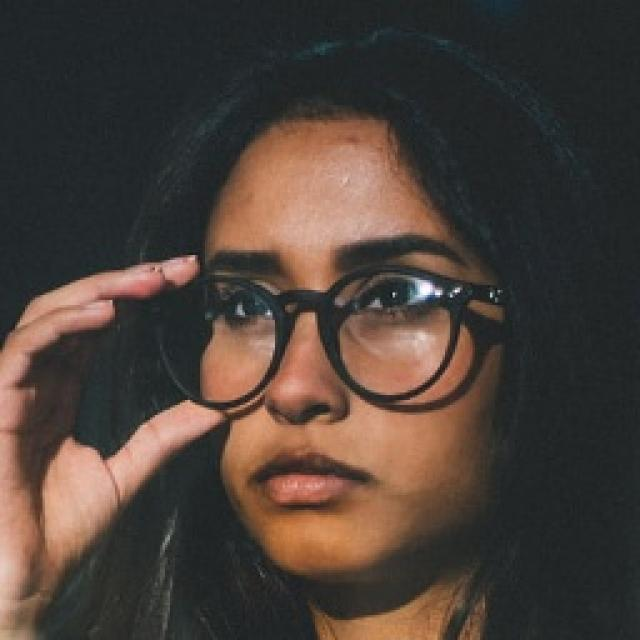glasses: (120, 240, 520, 428)
